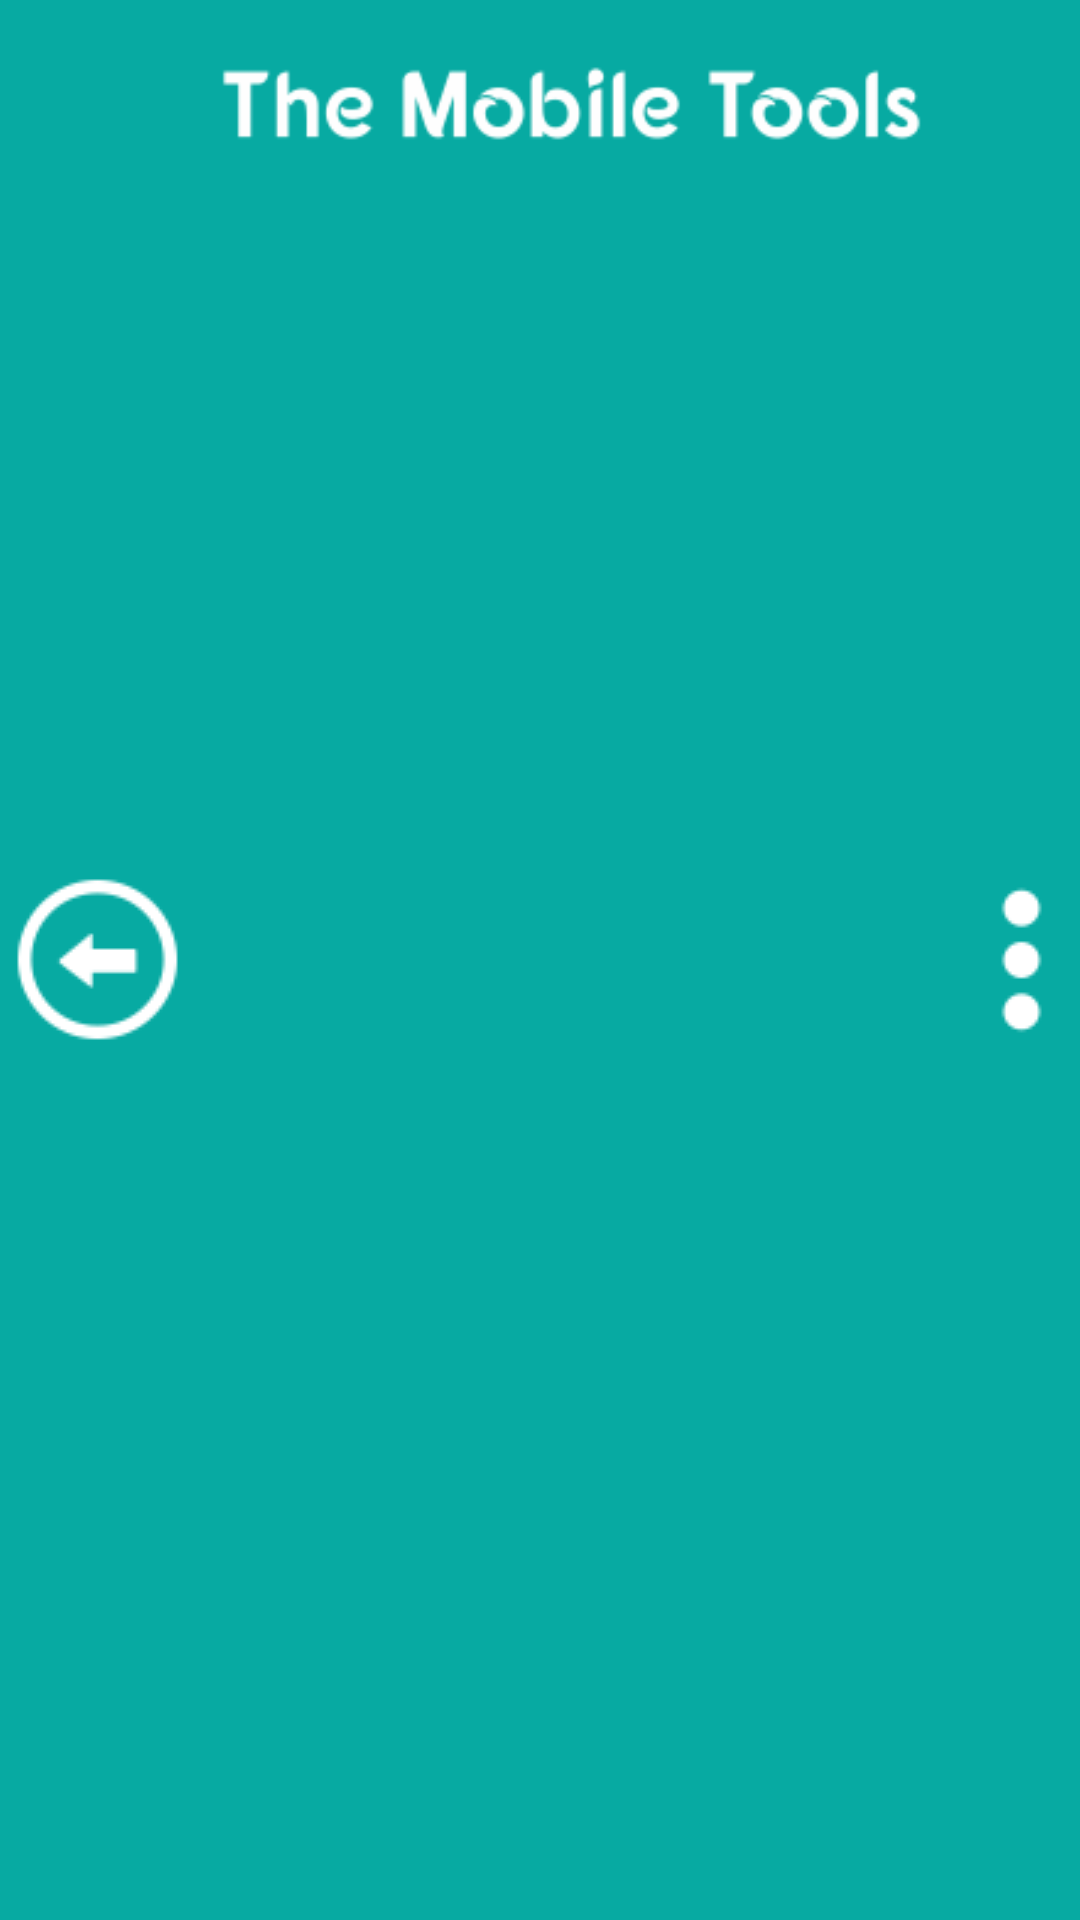

Point at icon controls on the screen. Image size 1080 × 1920, points as (x=x, y=y).
back: (x=97, y=959)
menu: (x=1021, y=960)
